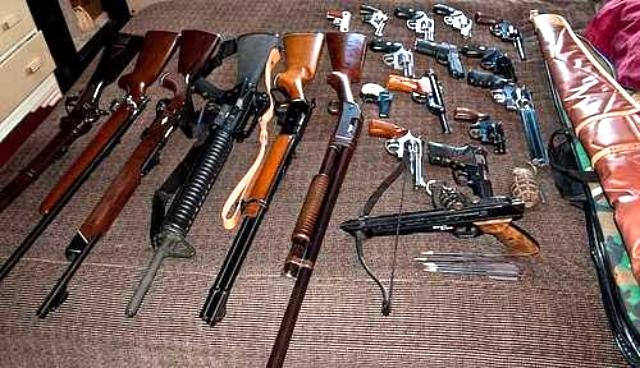rifle: (29, 32, 233, 322), (120, 31, 294, 335), (199, 9, 335, 339), (4, 32, 180, 282), (266, 24, 386, 368), (341, 154, 549, 314), (0, 24, 154, 208)
